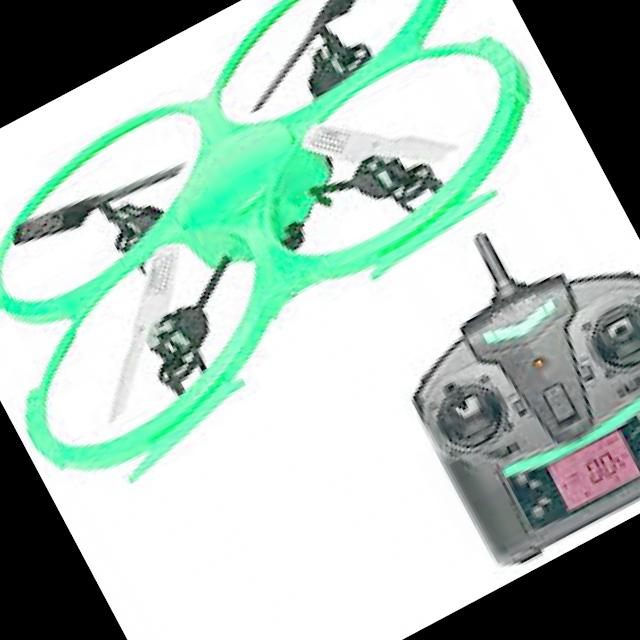drone: (0, 0, 633, 528)
